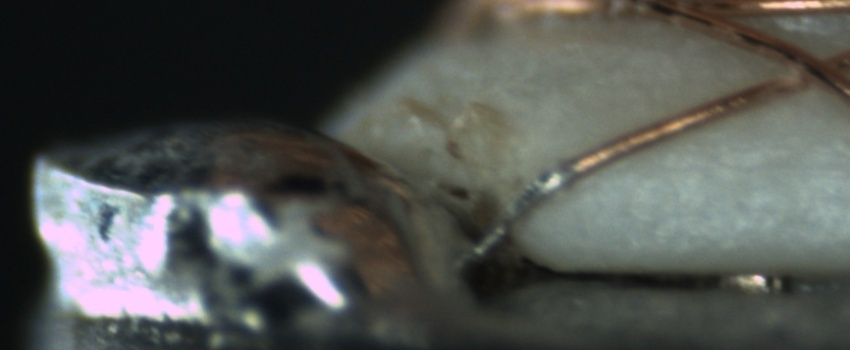CL: (757, 42, 845, 101)
DL: (646, 138, 850, 191)
TS: (473, 162, 575, 256)
TTCW: (464, 146, 619, 264)
